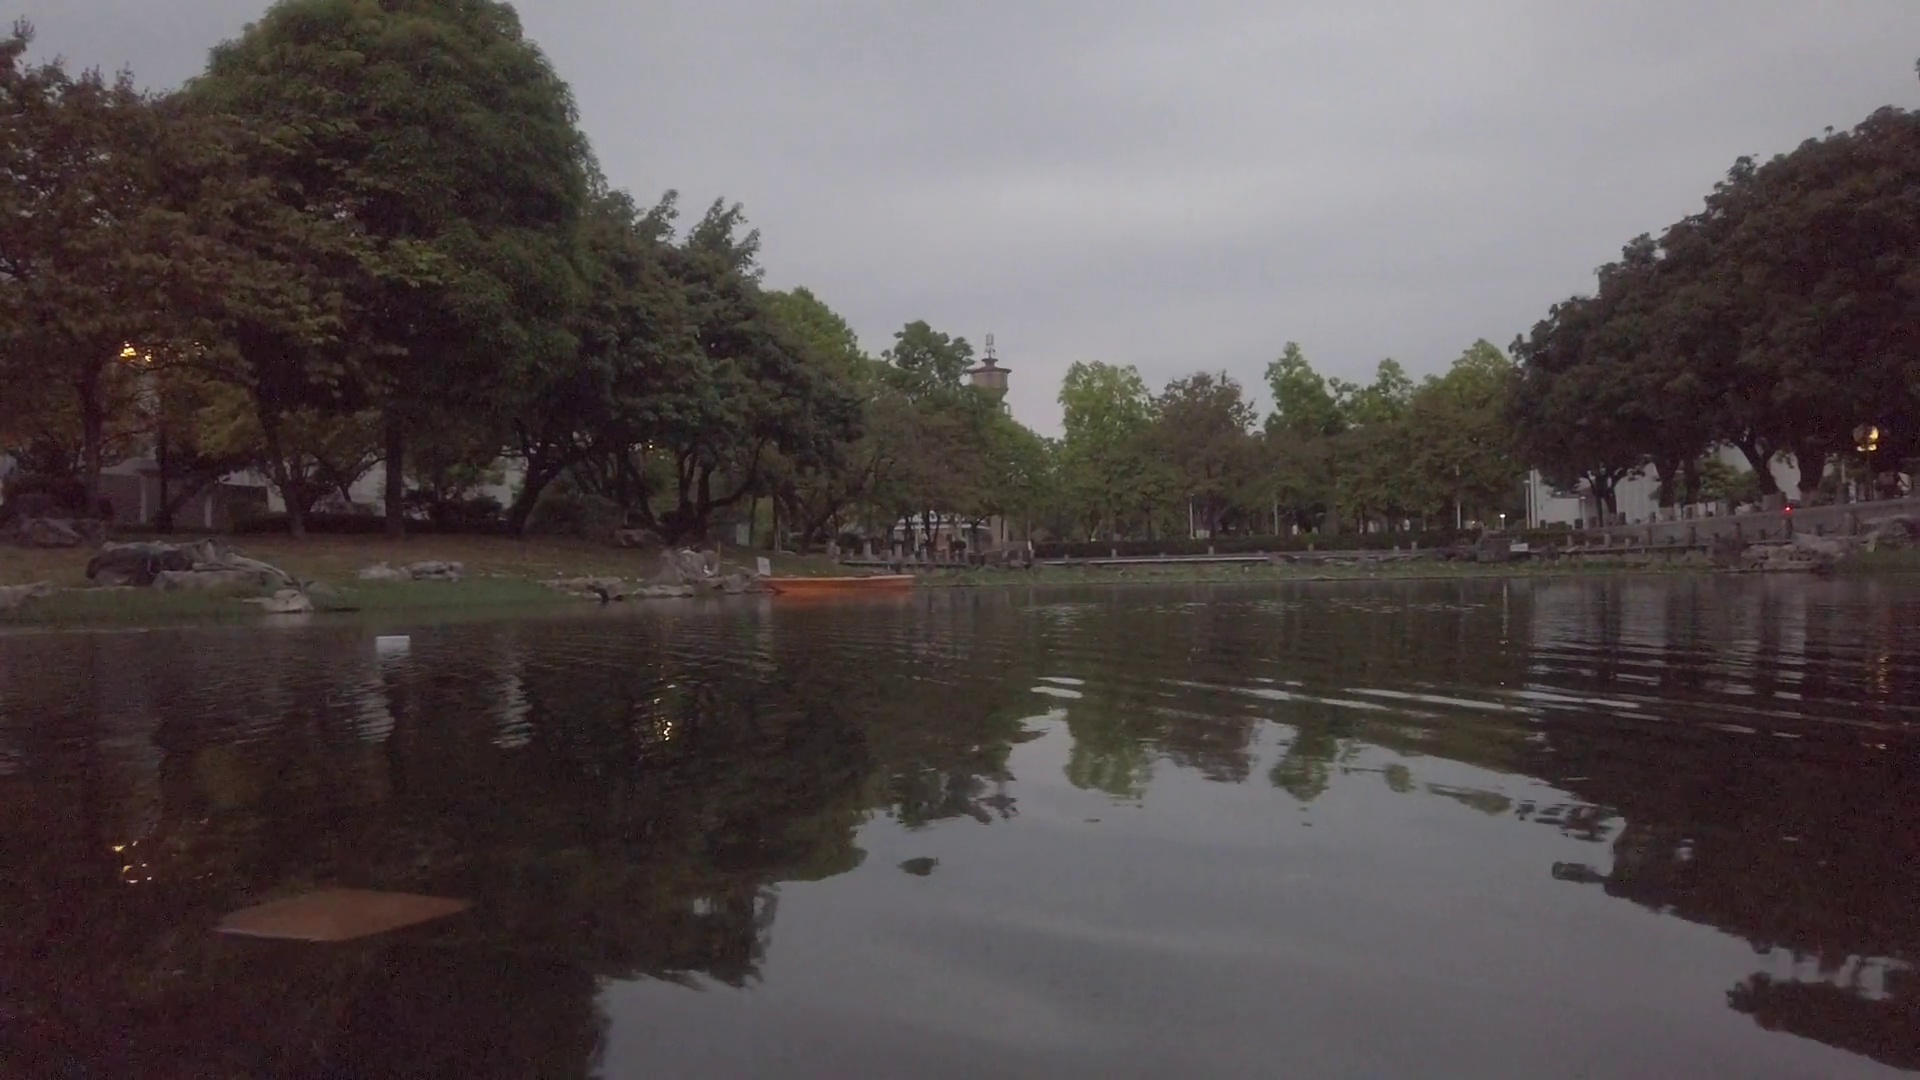carton: (376, 636, 411, 651)
paper: (200, 885, 477, 944)
